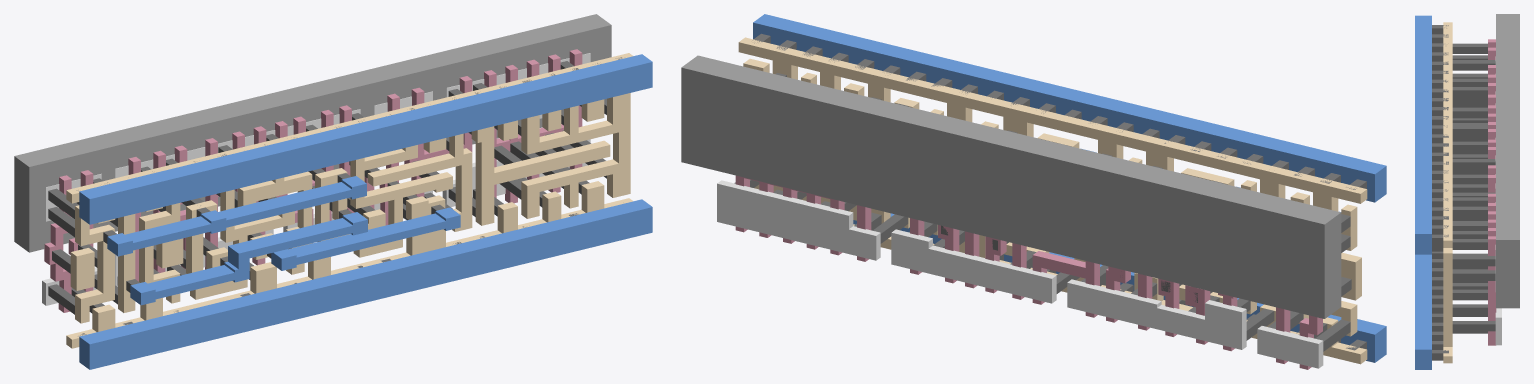
File: sky130_fd_sc_hd__dfstp_4.gds.gltf
3 renders of one model, left to right at view 1: azimuth 30°, elevation 25°; view 2: azimuth 150°, elevation 25°; view 3: azimuth 270°, elevation 25°, orthographic. The views are drawn at different scales.
Visible parts, largest first — view 1: sky130_fd_sc_hd__dfstp_4_met1, sky130_fd_sc_hd__dfstp_4_li1, sky130_fd_sc_hd__dfstp_4_nwell, sky130_fd_sc_hd__dfstp_4_poly, sky130_fd_sc_hd__dfstp_4_licon, sky130_fd_sc_hd__dfstp_4_diff, sky130_fd_sc_hd__dfstp_4_mcon; view 2: sky130_fd_sc_hd__dfstp_4_nwell, sky130_fd_sc_hd__dfstp_4_li1, sky130_fd_sc_hd__dfstp_4_diff, sky130_fd_sc_hd__dfstp_4_met1, sky130_fd_sc_hd__dfstp_4_poly, sky130_fd_sc_hd__dfstp_4_licon, sky130_fd_sc_hd__dfstp_4_mcon; view 3: sky130_fd_sc_hd__dfstp_4_licon, sky130_fd_sc_hd__dfstp_4_nwell, sky130_fd_sc_hd__dfstp_4_met1, sky130_fd_sc_hd__dfstp_4_mcon, sky130_fd_sc_hd__dfstp_4_li1, sky130_fd_sc_hd__dfstp_4_poly, sky130_fd_sc_hd__dfstp_4_diff.
Part boxes in pixels (<box>): sky130_fd_sc_hd__dfstp_4_met1: <box>79,54,652,369</box>; sky130_fd_sc_hd__dfstp_4_li1: <box>66,53,633,348</box>; sky130_fd_sc_hd__dfstp_4_nwell: <box>14,14,611,252</box>; sky130_fd_sc_hd__dfstp_4_poly: <box>44,49,582,312</box>; sky130_fd_sc_hd__dfstp_4_licon: <box>48,61,606,314</box>; sky130_fd_sc_hd__dfstp_4_diff: <box>42,53,590,305</box>; sky130_fd_sc_hd__dfstp_4_mcon: <box>76,57,622,336</box>; sky130_fd_sc_hd__dfstp_4_nwell: <box>681,55,1341,318</box>; sky130_fd_sc_hd__dfstp_4_li1: <box>738,37,1367,364</box>; sky130_fd_sc_hd__dfstp_4_diff: <box>717,180,1323,368</box>; sky130_fd_sc_hd__dfstp_4_met1: <box>753,14,1386,362</box>; sky130_fd_sc_hd__dfstp_4_poly: <box>735,175,1322,369</box>; sky130_fd_sc_hd__dfstp_4_licon: <box>734,73,1351,351</box>; sky130_fd_sc_hd__dfstp_4_mcon: <box>752,33,1366,350</box>; sky130_fd_sc_hd__dfstp_4_licon: <box>1452,43,1495,333</box>; sky130_fd_sc_hd__dfstp_4_nwell: <box>1496,14,1519,308</box>; sky130_fd_sc_hd__dfstp_4_met1: <box>1415,15,1431,369</box>; sky130_fd_sc_hd__dfstp_4_mcon: <box>1432,25,1448,360</box>; sky130_fd_sc_hd__dfstp_4_li1: <box>1443,22,1452,363</box>; sky130_fd_sc_hd__dfstp_4_poly: <box>1488,39,1496,345</box>; sky130_fd_sc_hd__dfstp_4_diff: <box>1495,56,1501,345</box>.
Size of the model in its own units: 11.42 by 3.2 by 2.24.
